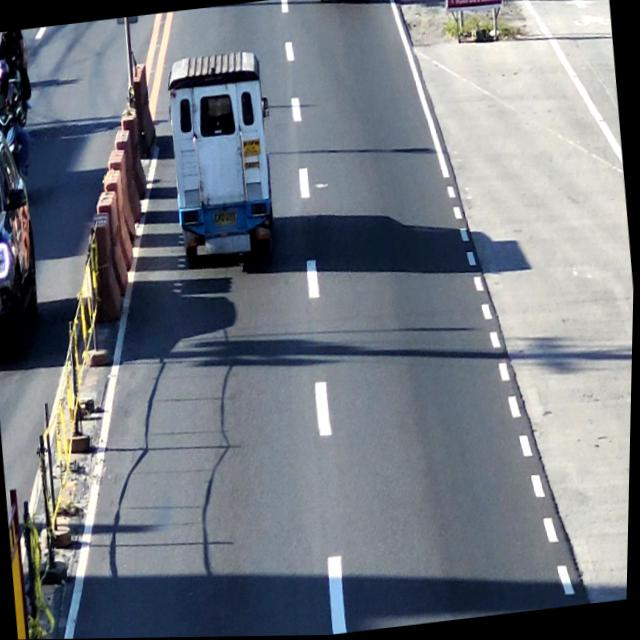Jeep: (163, 50, 283, 265)
License-Plate: (211, 206, 238, 227)
